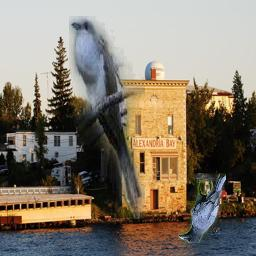Crow: (178, 173, 226, 243)
Cuckoo: (69, 17, 145, 220)
